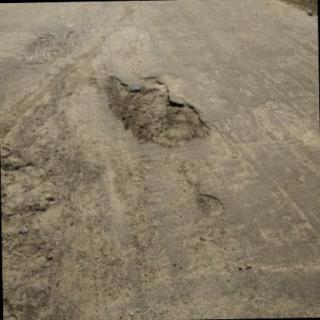pothole: (104, 76, 212, 149)
